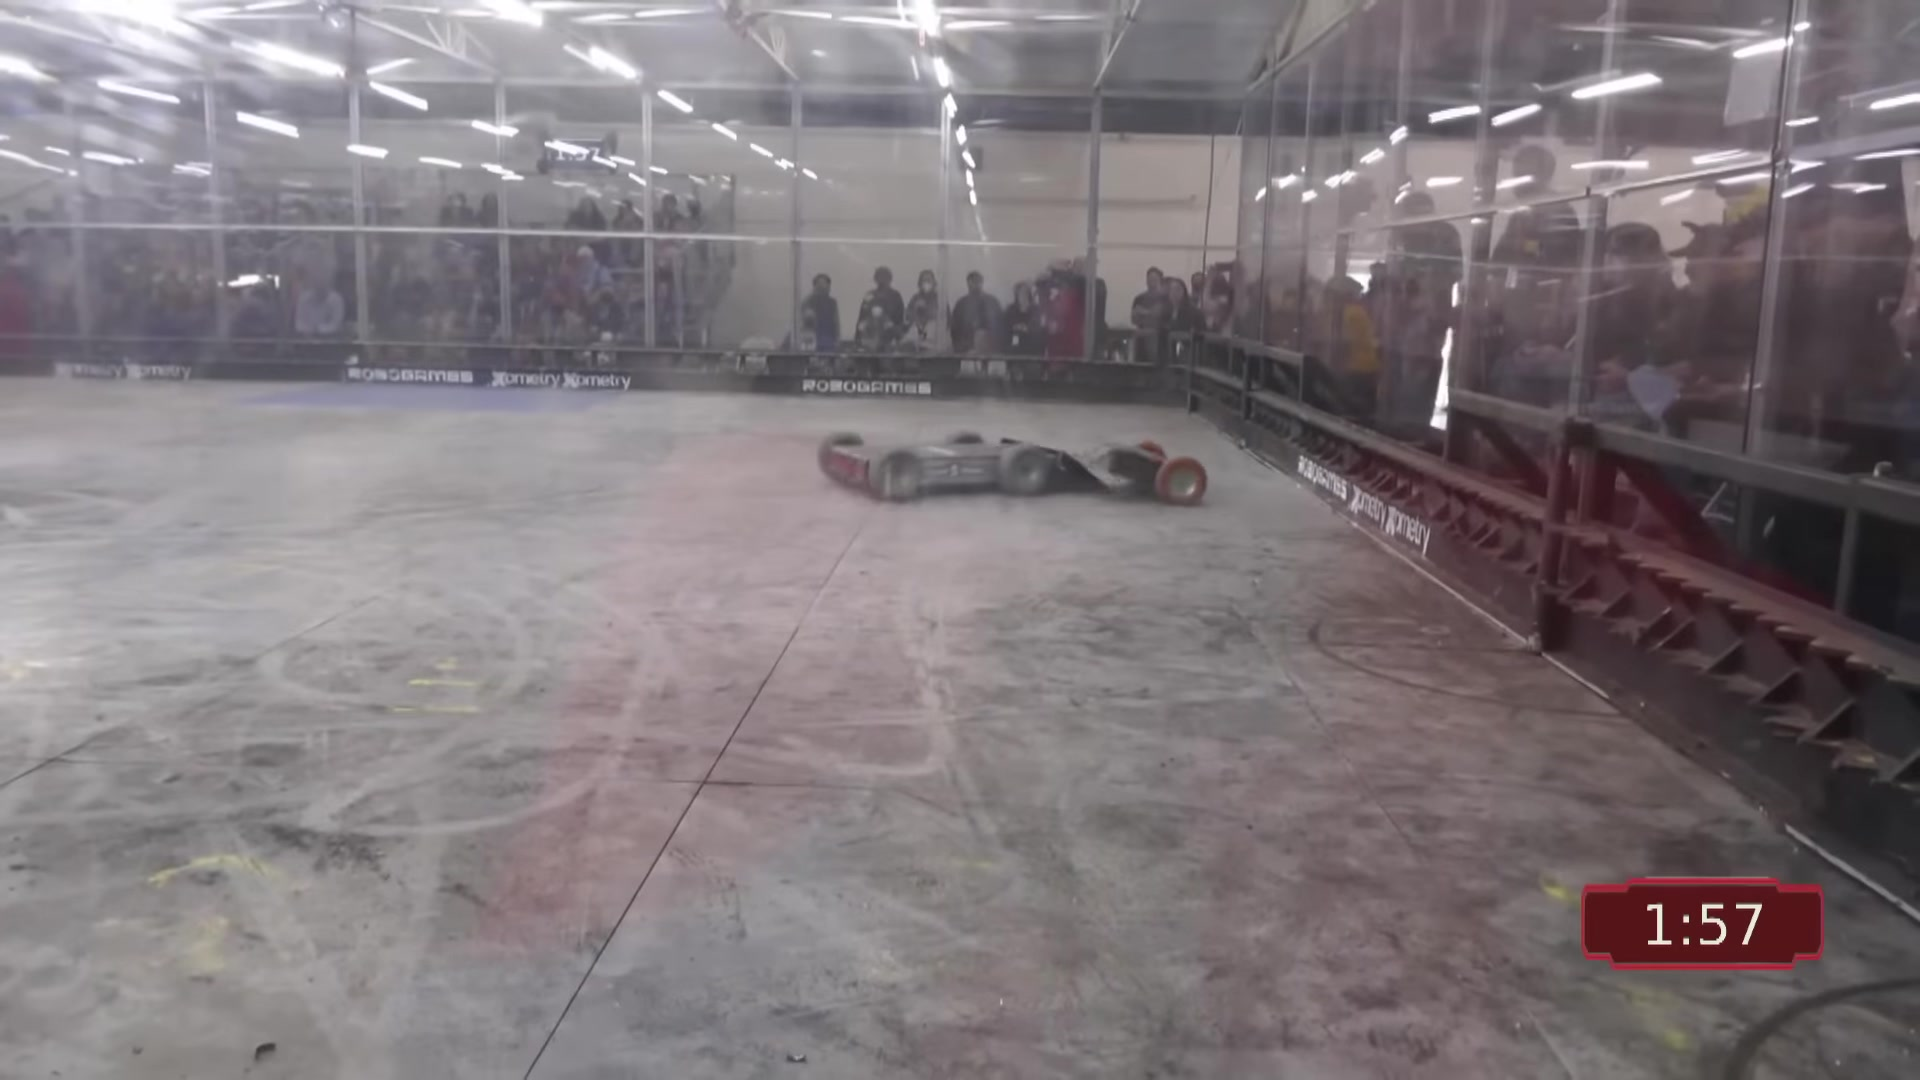combatbot: (812, 419, 1098, 500), (1080, 440, 1204, 502)
